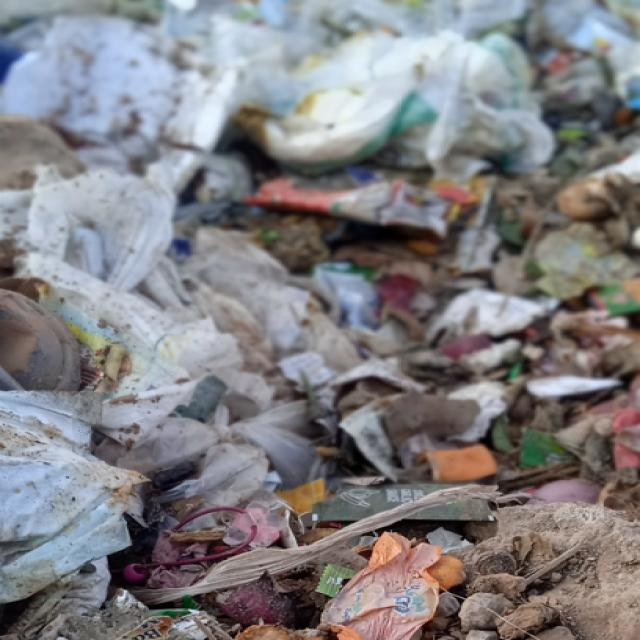electronic: (0, 284, 99, 392), (340, 529, 434, 638)
general: (32, 164, 176, 275)
